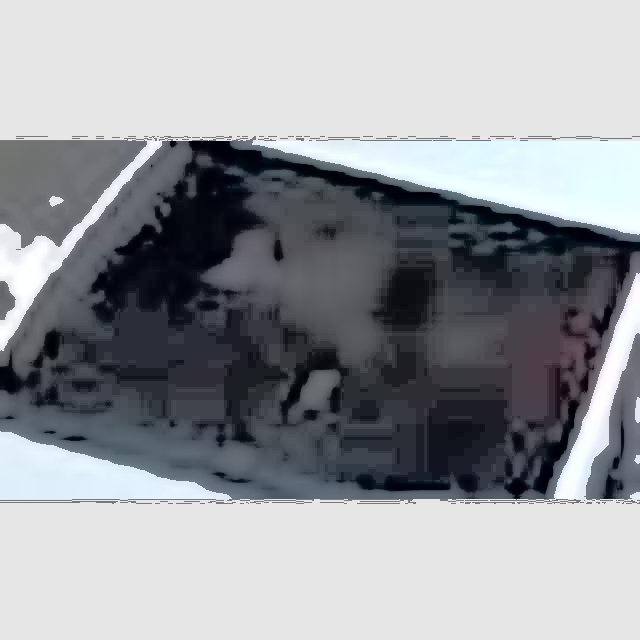tidak-pakai: (204, 197, 373, 359)
